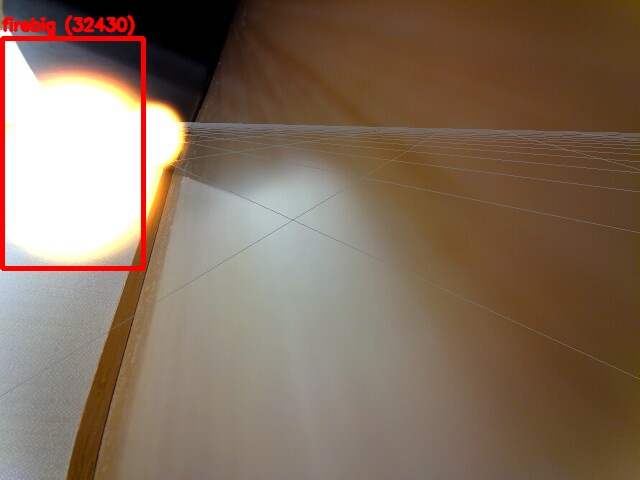firebig: (2, 38, 143, 268)
